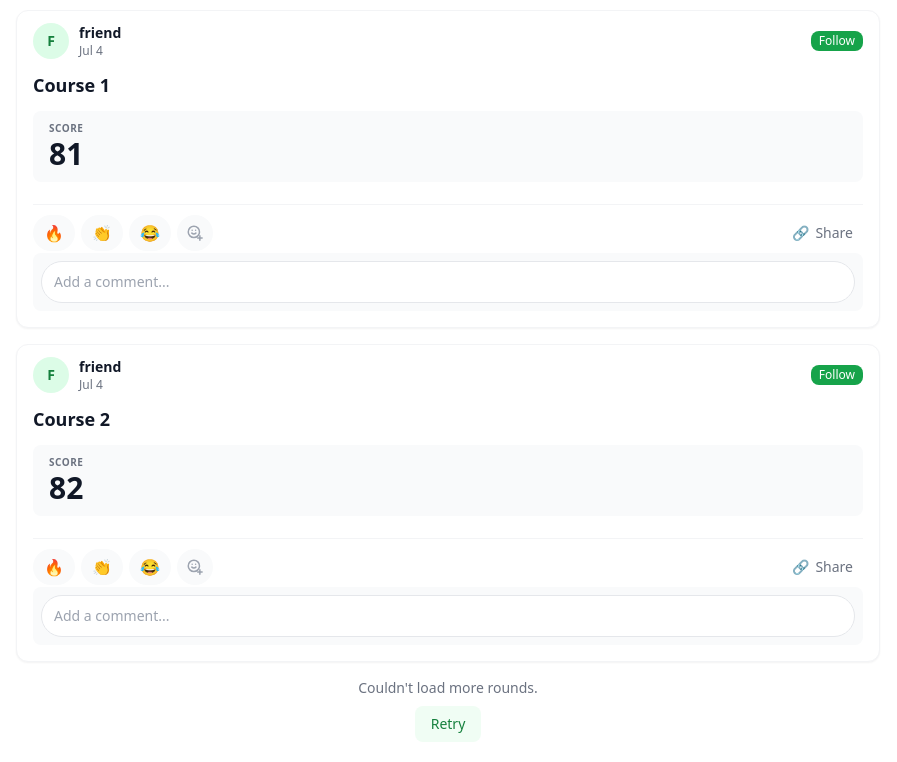
Test case: a failed page stops auto-loading until Retry
The image size is (897, 762).
Expected: the heading "Course 2" is shown, [33,407,110,431]
Expected: the text "Couldn't load more rounds." is shown, [358,678,538,697]
Click the button "Retry" at coordinates (448, 724), box [415,706,481,742]
(page scrolled)
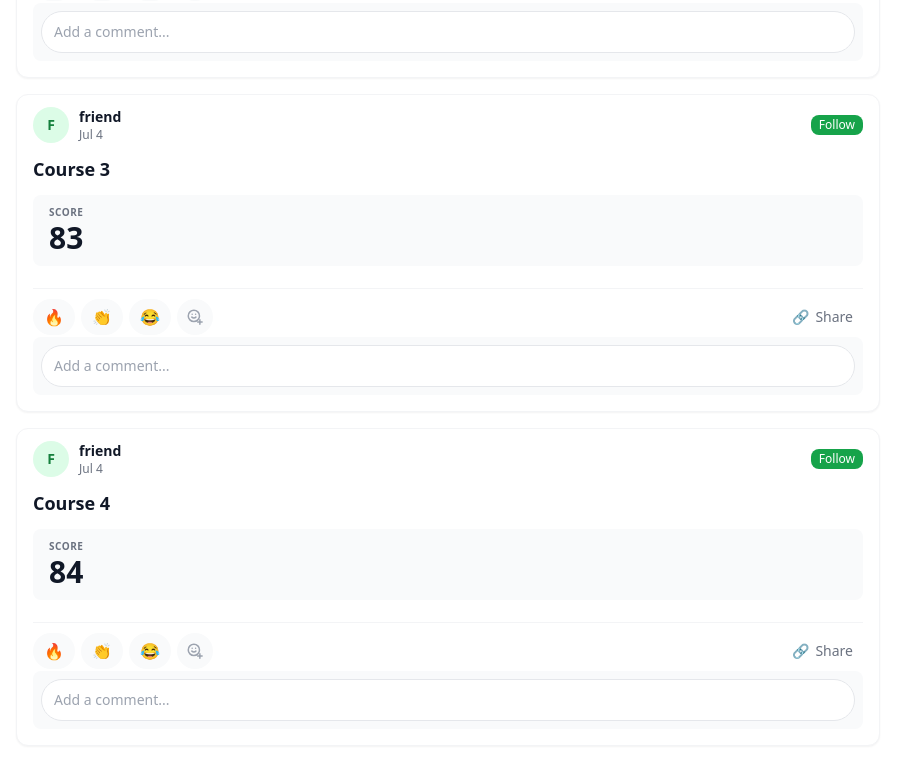
Expected: the heading "Course 4" is shown, [33,491,110,515]
